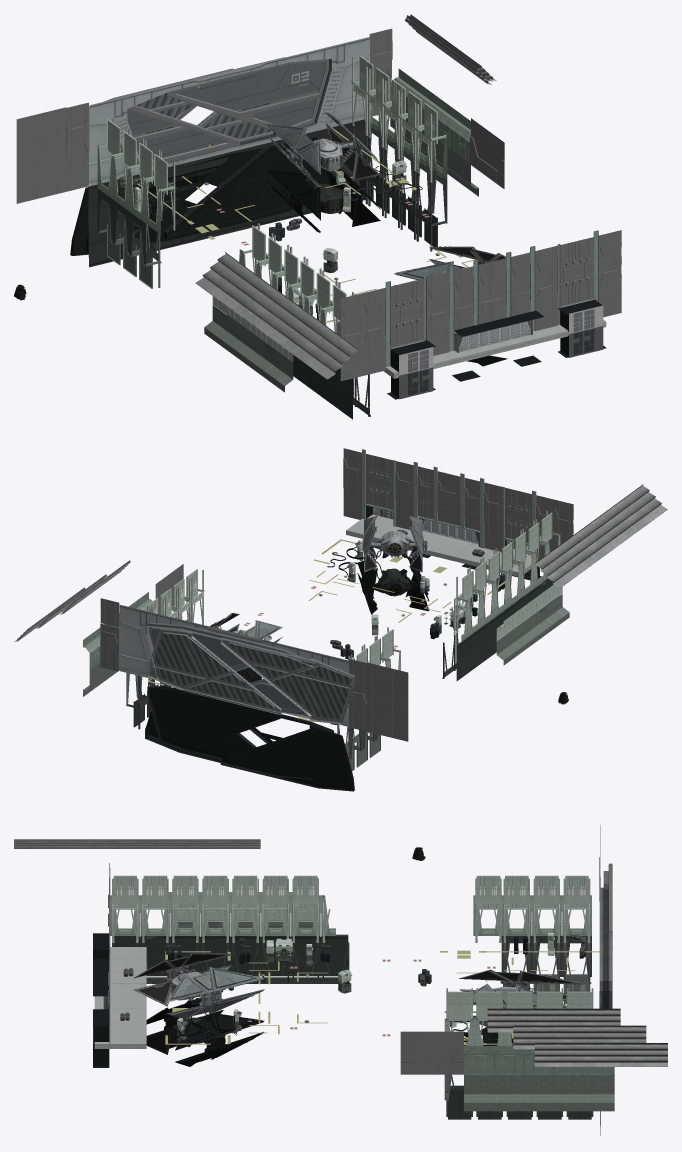
File: env_sie_testhangar_pre.glb
3 renders of one model, top to bottom at view 1: azimuth 30°, elevation 25°; view 2: azimuth 150°, elevation 25°; view 3: azimuth 270°, elevation 25°, orthographic. The views are drawn at different scales.
Parts seen in each view (by area): view 1: sie_testhangar_wall_group_02a_mesh, sie_testhangar_wall_group_01c_mesh, emp_bridge_stairs (9), sie_testhangar_door_01a - Animate Move, sie_testhangar_door_01a_mirror, sie_testhangar_wall_group_01c_mirror, sie_testhangar_wall_group_01a_mirror, veh_tie_avenger_prototype (×2), sie_testhangar_wall_group_01a_mesh, sie_testhangar_frame, sie_testhangar_door_01b - Animate Move, sie_testhangar_frame (1) (+25 smaller); view 2: sie_testhangar_wall_group_02a_mesh, sie_testhangar_door_01c_mirror (1) (×2), sie_testhangar_door_01c Move to 0-0-0 (×2), sie_testhangar_wall_group_01a_mesh, emp_bridge_stairs (9), sie_testhangar_wall_group_01a_mirror, sie_testhangar_frame, veh_tie_avenger_prototype (×2), sie_testhangar_wall_group_01c_mesh, sie_testhangar_floor_01b, veh_tie_avenger_prototype_mirror, sie_testhangar_frame (1) (+8 smaller); view 3: sie_testhangar_wall_group_01a_mesh, sie_testhangar_wall_group_01a_mirror, sie_testhangar_wall_group_01c_mirror, sie_testhangar_wall_group_01c_mesh, veh_tie_avenger_prototype (×2), sie_testhangar_wall_group_01b_mesh, sie_testhangar_floor_01b, veh_tie_avenger_prototype_mirror, emp_bridge_stairs (13), sie_testhangar_wall_02c (12), emp_bridge_stairs (11), emp_bridge_stairs (12) (+7 smaller).
Part boxes in pixels (<box>): sie_testhangar_wall_group_02a_mesh: <box>340,230,621,381</box>; sie_testhangar_wall_group_01c_mesh: <box>351,56,470,182</box>; emp_bridge_stairs (9): <box>195,252,357,379</box>; sie_testhangar_door_01a - Animate Move: <box>164,59,329,136</box>; sie_testhangar_door_01a_mirror: <box>164,137,329,238</box>; sie_testhangar_wall_group_01c_mirror: <box>352,106,478,251</box>; sie_testhangar_wall_group_01a_mirror: <box>204,305,370,419</box>; veh_tie_avenger_prototype (×2): <box>266,112,505,285</box>; sie_testhangar_wall_group_01a_mesh: <box>212,223,356,362</box>; sie_testhangar_frame: <box>227,37,369,151</box>; sie_testhangar_door_01b - Animate Move: <box>89,105,239,163</box>; sie_testhangar_frame (1): <box>89,71,229,186</box>; sie_testhangar_wall_group_02a_mesh: <box>343,448,573,560</box>; sie_testhangar_door_01c_mirror (1) (×2): <box>147,686,354,791</box>; sie_testhangar_door_01c Move to 0-0-0 (×2): <box>147,628,354,724</box>; sie_testhangar_wall_group_01a_mesh: <box>451,510,562,641</box>; emp_bridge_stairs (9): <box>534,484,667,588</box>; sie_testhangar_wall_group_01a_mirror: <box>442,578,569,680</box>; sie_testhangar_frame: <box>119,605,234,700</box>; veh_tie_avenger_prototype (×2): <box>209,515,427,642</box>; sie_testhangar_wall_group_01c_mesh: <box>83,569,204,669</box>; sie_testhangar_floor_01b: <box>346,514,531,574</box>; veh_tie_avenger_prototype_mirror: <box>357,556,429,614</box>; sie_testhangar_frame (1): <box>229,632,348,726</box>; sie_testhangar_wall_group_01a_mesh: <box>110,875,335,942</box>; sie_testhangar_wall_group_01a_mirror: <box>112,921,350,983</box>; sie_testhangar_wall_group_01c_mirror: <box>444,1074,614,1119</box>; sie_testhangar_wall_group_01c_mesh: <box>444,988,614,1074</box>; veh_tie_avenger_prototype (×2): <box>133,953,582,1026</box>; sie_testhangar_wall_group_01b_mesh: <box>501,875,591,942</box>; sie_testhangar_floor_01b: <box>94,947,146,1046</box>; veh_tie_avenger_prototype_mirror: <box>146,998,264,1066</box>; emp_bridge_stairs (13): <box>534,1043,667,1066</box>; sie_testhangar_wall_02c (12): <box>400,1031,463,1074</box>; emp_bridge_stairs (11): <box>487,1008,620,1032</box>; emp_bridge_stairs (12): <box>513,1025,646,1049</box>.
Bounding box in the file's own units: 65.55 × 19.46 × 73.16.
42 materials, 42 textured.
